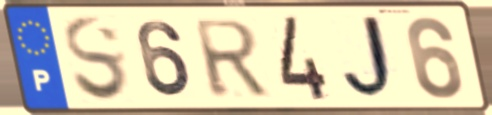4: (277, 14, 331, 104)
6: (403, 14, 465, 102), (134, 18, 193, 99)
J: (340, 13, 404, 103)
R: (190, 17, 272, 101)
S: (60, 14, 133, 106)
